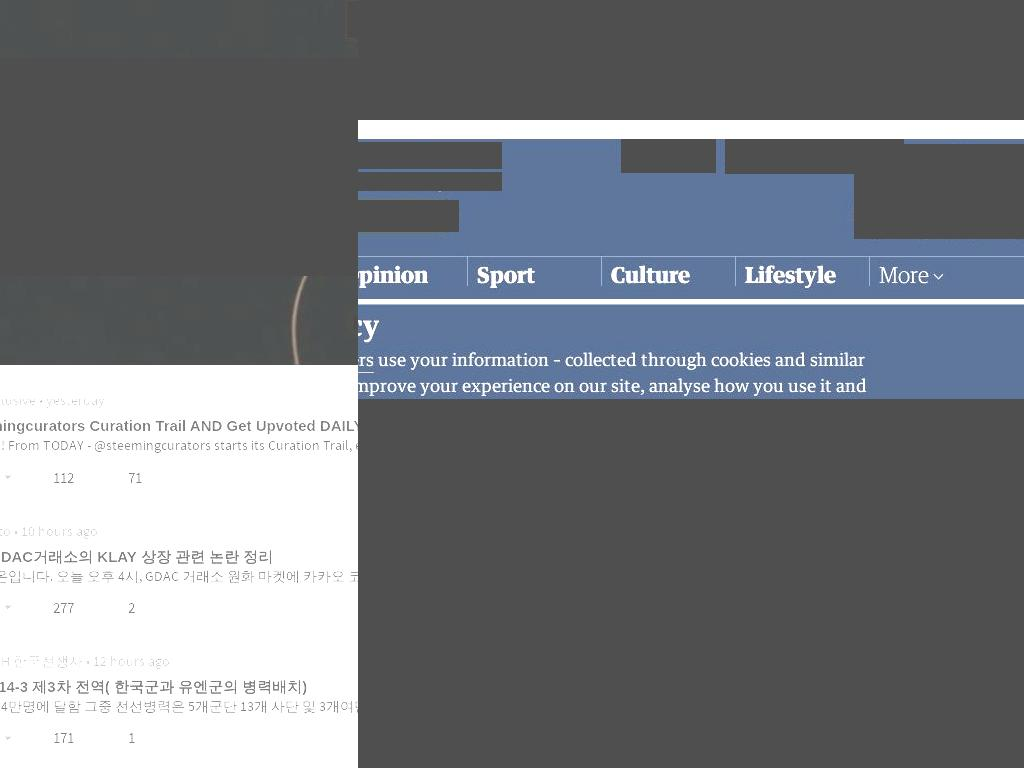button: (854, 144, 1024, 239), (467, 257, 601, 299), (601, 257, 735, 299), (735, 257, 869, 299), (358, 257, 467, 299), (401, 299, 500, 341), (556, 299, 640, 341), (808, 139, 904, 174), (869, 257, 947, 299), (358, 200, 459, 232), (621, 139, 716, 173), (725, 139, 809, 174), (640, 299, 709, 341), (750, 299, 812, 341), (500, 299, 556, 341), (358, 299, 401, 341), (709, 299, 750, 341), (358, 347, 374, 373)
heading: (727, 491, 1024, 768), (358, 305, 909, 347), (727, 454, 1024, 476), (0, 417, 358, 435), (0, 677, 307, 695), (0, 547, 273, 565)
iframe: (358, 0, 1024, 120)
image: (358, 399, 691, 768), (691, 399, 1024, 768), (854, 144, 1024, 239), (426, 200, 458, 232), (174, 469, 193, 488), (167, 600, 186, 619), (167, 730, 186, 749), (732, 147, 751, 165), (815, 147, 834, 165), (32, 469, 50, 488), (107, 469, 125, 488), (32, 600, 50, 619), (107, 600, 125, 619), (32, 730, 50, 749), (107, 730, 125, 749), (0, 471, 17, 490), (0, 602, 17, 621), (0, 732, 17, 751), (353, 315, 358, 329)
link: (0, 58, 358, 276), (0, 436, 358, 455), (0, 566, 358, 585), (0, 696, 358, 715), (0, 651, 83, 670), (0, 399, 36, 410)
text: (358, 349, 867, 399), (358, 142, 502, 169), (358, 172, 502, 191), (92, 651, 170, 670), (21, 521, 98, 540), (879, 261, 933, 288), (358, 205, 425, 224), (837, 146, 890, 165), (754, 146, 803, 165), (46, 399, 105, 410), (53, 467, 74, 487), (53, 597, 74, 617), (53, 728, 74, 748), (127, 467, 142, 487), (82, 651, 93, 670), (11, 521, 21, 540), (127, 597, 135, 617), (127, 728, 135, 748), (36, 399, 46, 410)
